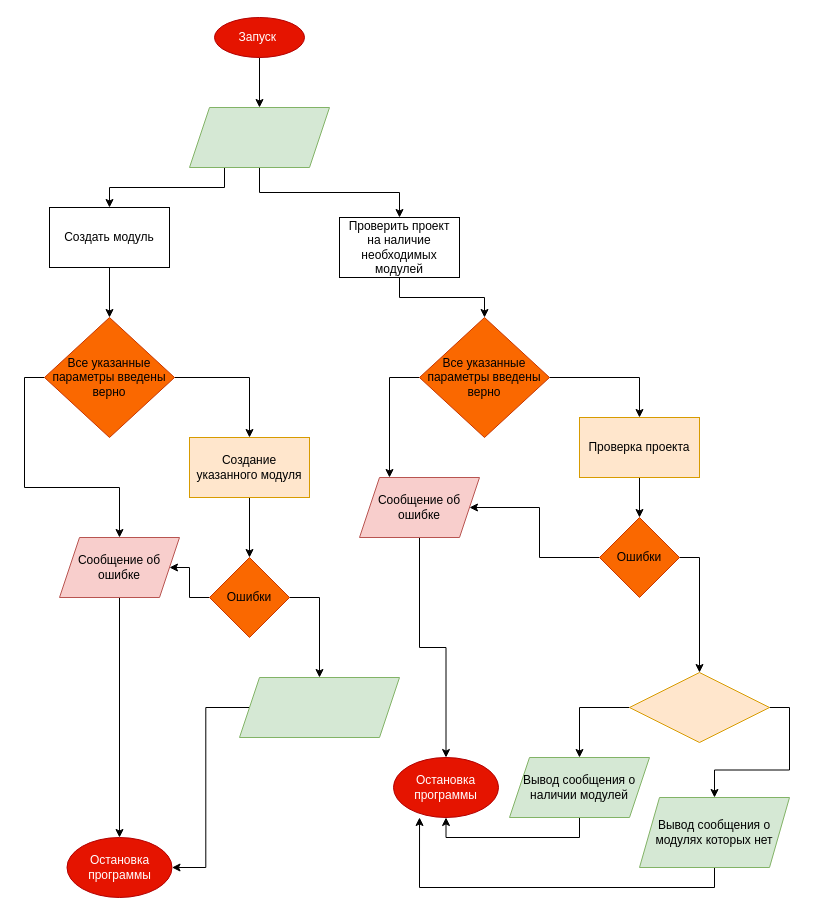
Some shapes in this 815 by 915 pixel diagram are drawn without their labels. The centre of each missing label's shape, as x and y in pixels:
Ввод команды: point (259, 137)
Все модули есть в проекте: point (699, 707)
Вывод сообщения о создании модуля: point (319, 707)
